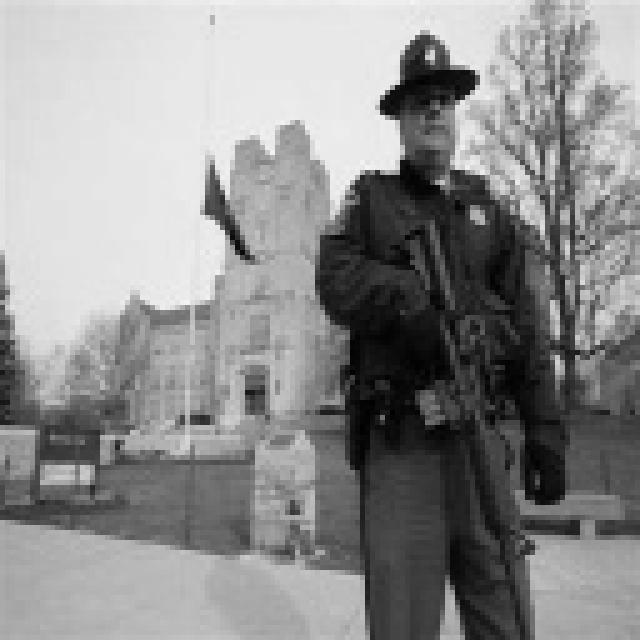Rifle: (382, 214, 574, 570)
